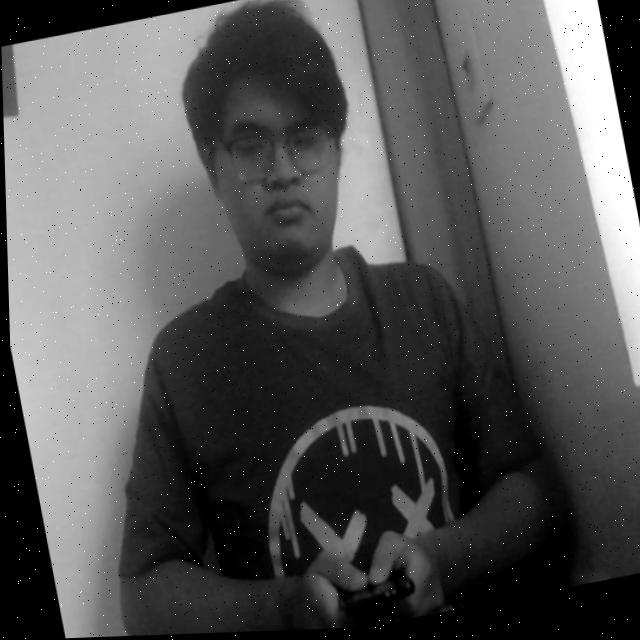phone: (308, 538, 419, 631)
